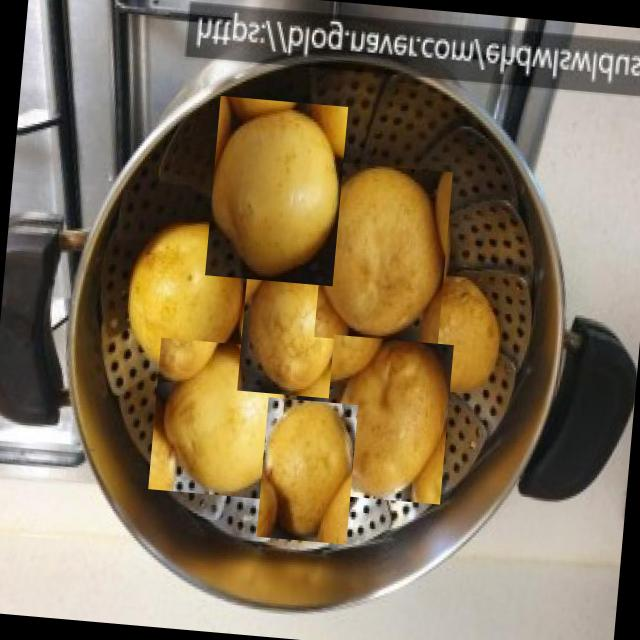Potato: (204, 94, 346, 284), (313, 160, 452, 346), (146, 336, 300, 500), (120, 197, 253, 376), (319, 333, 452, 503), (235, 250, 344, 398), (255, 396, 357, 543), (398, 268, 504, 400)
